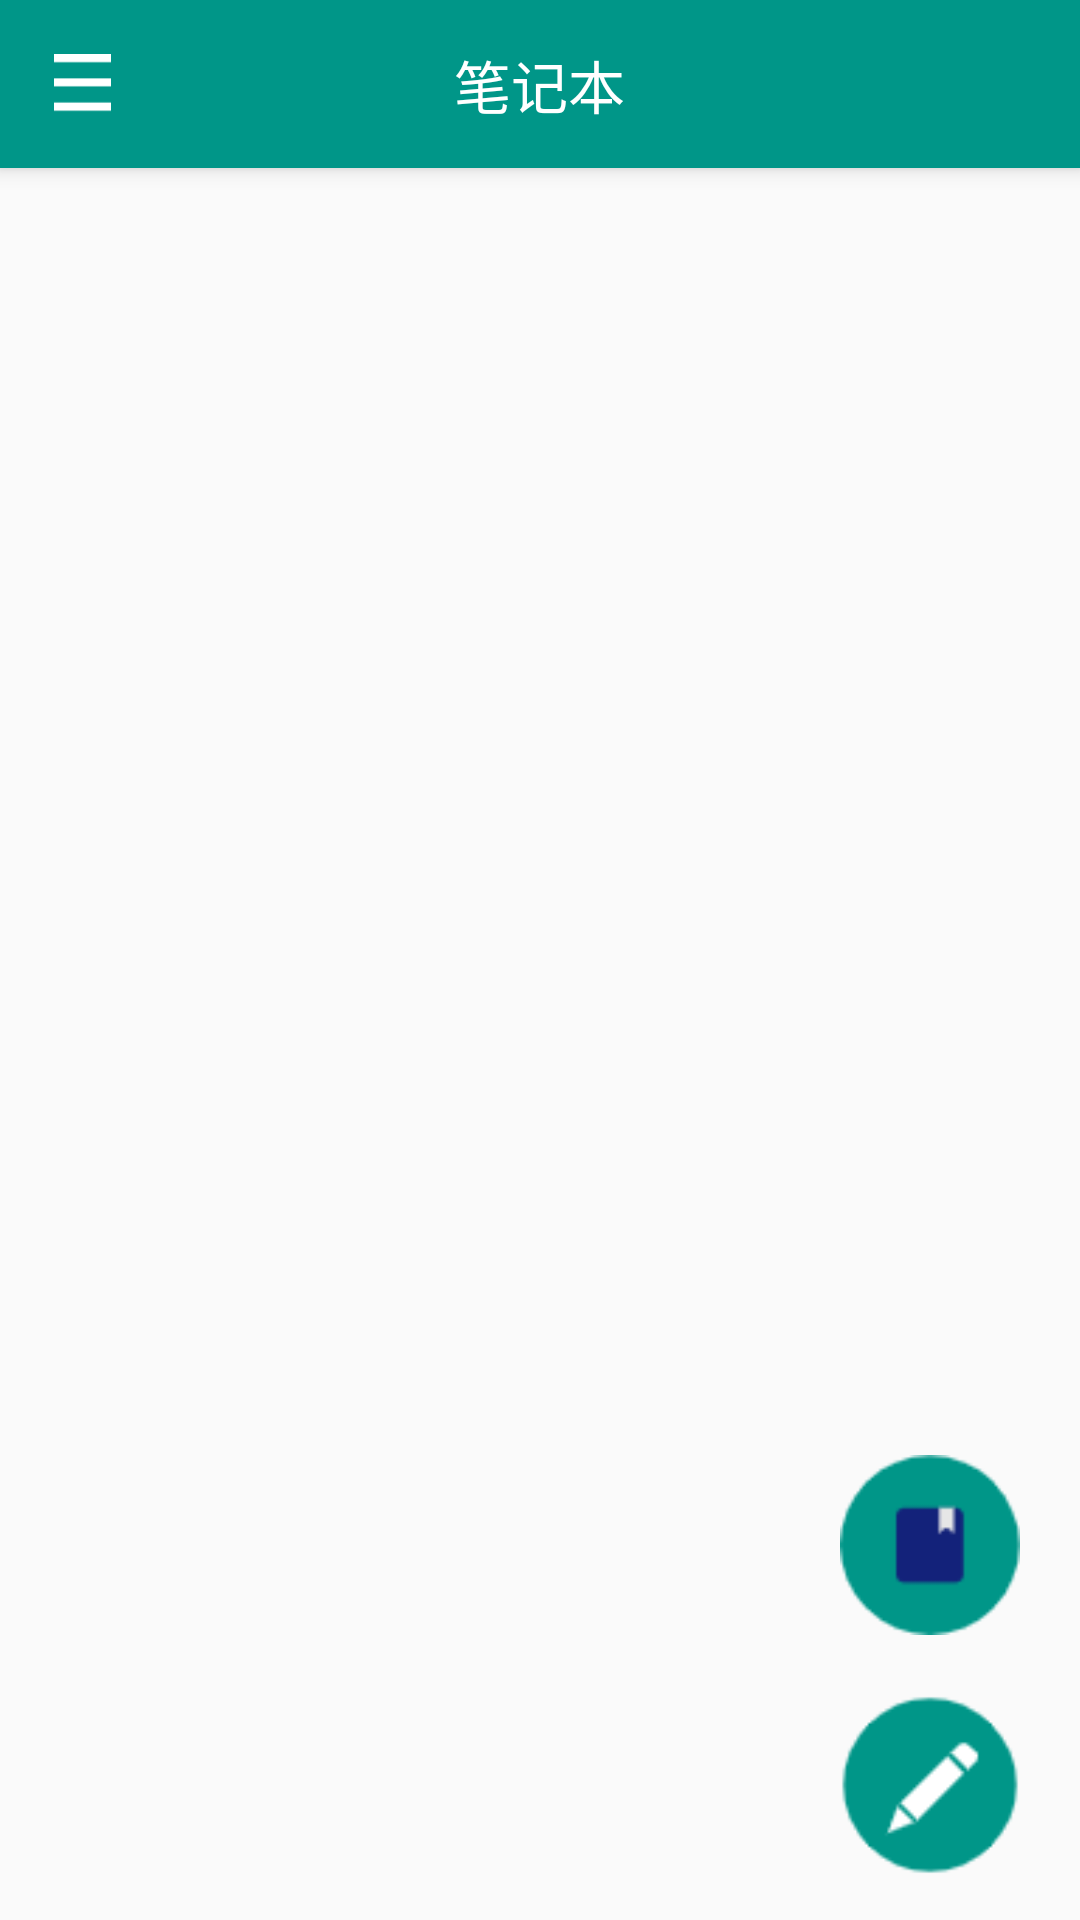

Screen size 1080px x 1920px. Icon name, then its center in pixels as point (x, y):
side: point (82, 82)
